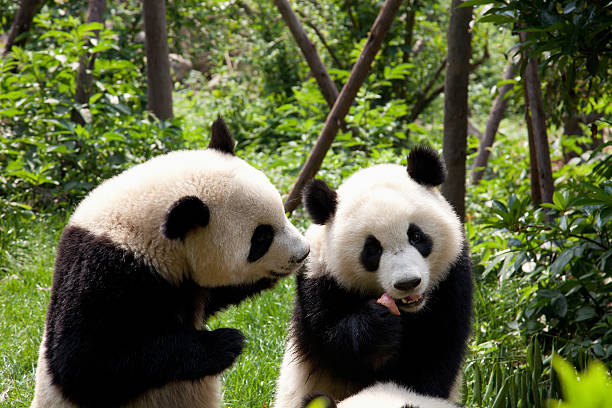panda: (263, 132, 471, 343), (141, 96, 315, 317)
